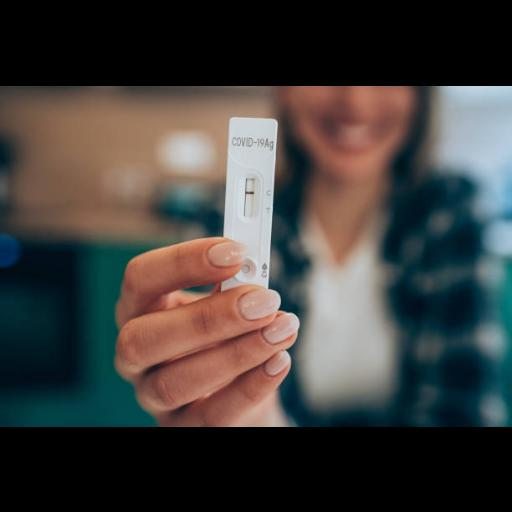Neg: (222, 118, 274, 286)
